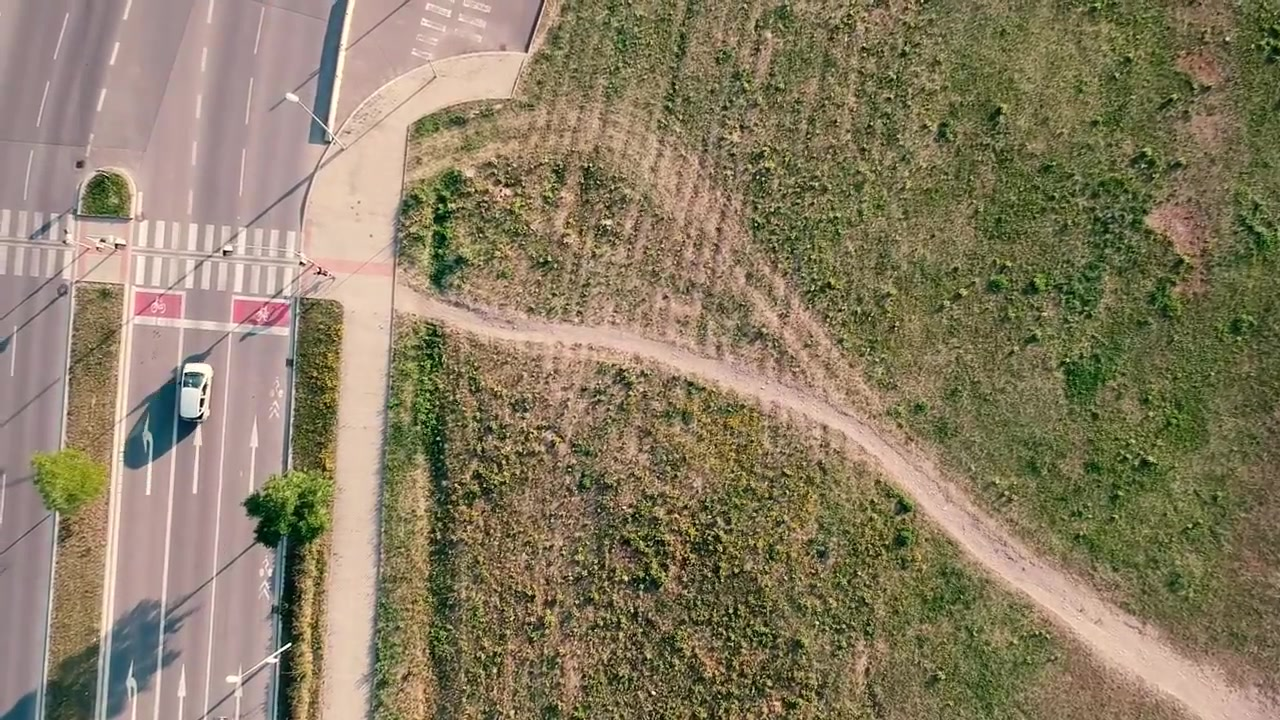car: (176, 361, 213, 422)
